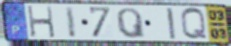7: (88, 5, 113, 39)
H: (26, 5, 57, 39)
I: (64, 6, 78, 39), (165, 7, 178, 40)
Q: (115, 7, 147, 40), (179, 7, 209, 42)
